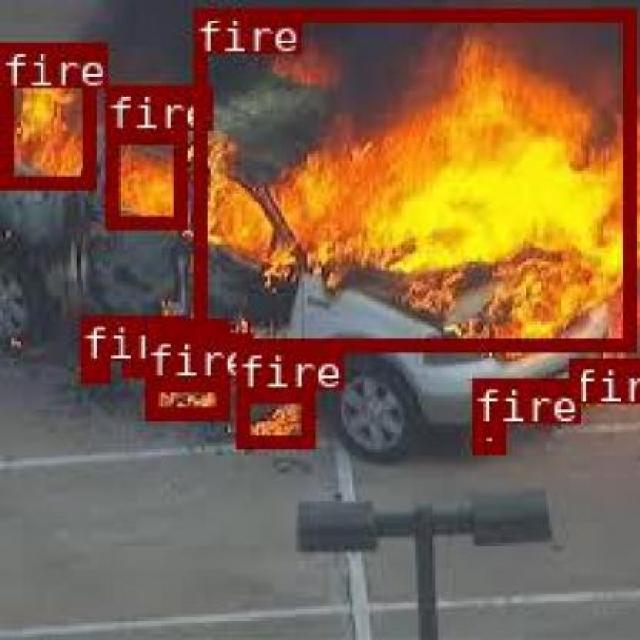fire: (190, 7, 632, 347), (0, 43, 91, 188), (104, 130, 184, 227), (236, 388, 313, 447), (142, 376, 225, 418), (567, 355, 630, 400), (471, 422, 504, 450), (80, 358, 106, 380), (122, 361, 150, 374)
